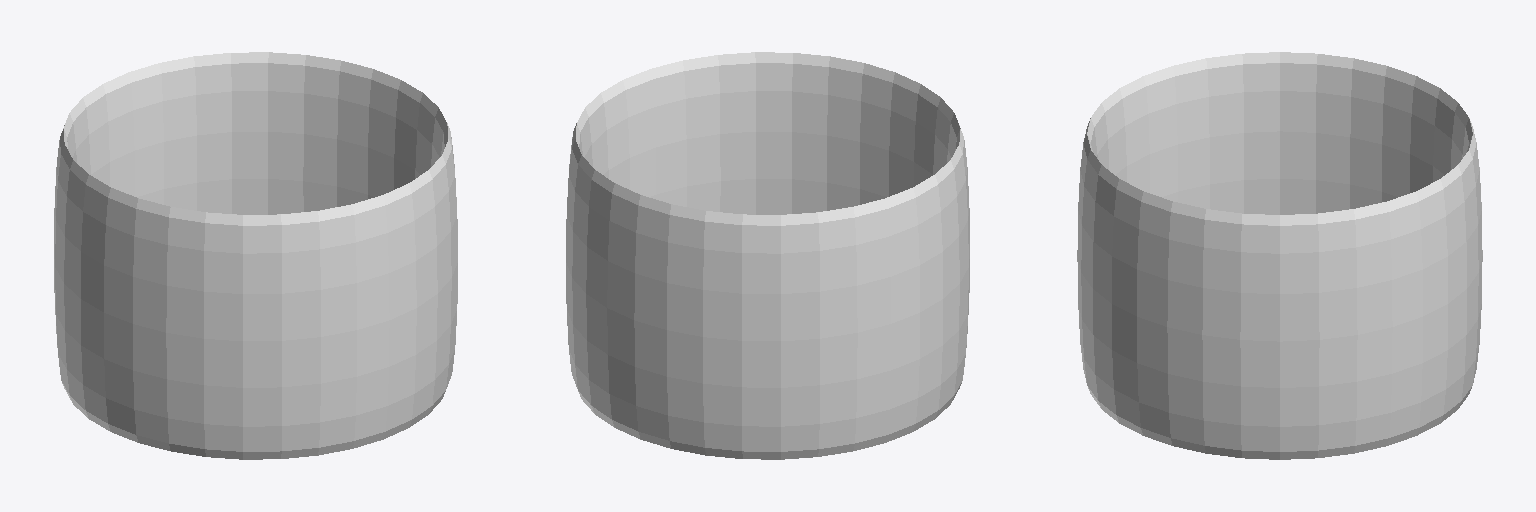
The model's file is HitlerBand.obj.
3 renders of one model, left to right at view 1: azimuth 30°, elevation 25°; view 2: azimuth 150°, elevation 25°; view 3: azimuth 270°, elevation 25°, orthographic.
Visible parts, largest first — view 1: Torus; view 2: Torus; view 3: Torus.
Part boxes in pixels (x1,y1,x2,y2): Torus: (54,52,457,459); Torus: (566,52,969,459); Torus: (1077,52,1482,459).
Bounding box in the file's own units: 4.2 × 2.8 × 4.2.